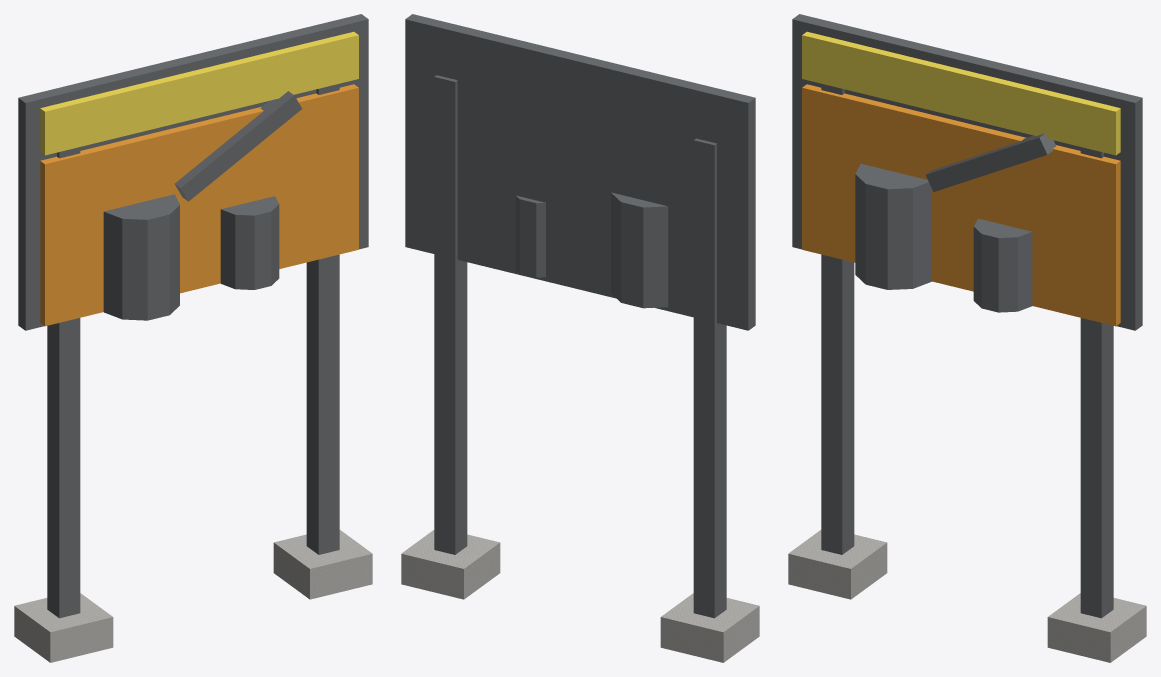
File: recycling-and-waste-transfer-yard-recycling-and-waste--d27245fe__34900.glb
3 views of the same model, side by side, from view 1: azimuth 30°, elevation 25°; view 2: azimuth 150°, elevation 25°; view 3: azimuth 330°, elevation 25° (orthographic).
Parts seen in each view (by area): view 1: recycling-and-waste-transfer-yard-material-signage-board-met (×4); view 2: recycling-and-waste-transfer-yard-material-signage-board-met (×2); view 3: recycling-and-waste-transfer-yard-material-signage-board-met (×4).
Part boxes in pixels (<box>): recycling-and-waste-transfer-yard-material-signage-board-met (×4): <box>14,14,372,662</box>; recycling-and-waste-transfer-yard-material-signage-board-met (×2): <box>401,14,759,662</box>; recycling-and-waste-transfer-yard-material-signage-board-met (×4): <box>788,14,1146,662</box>.
Size of the model in its own units: 1.64 by 2.52 by 0.3817.
4 materials, 1 textured.
